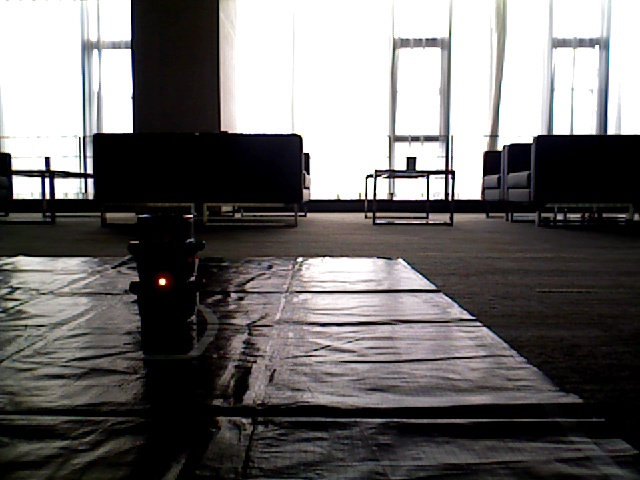yellow: (139, 218, 182, 325)
